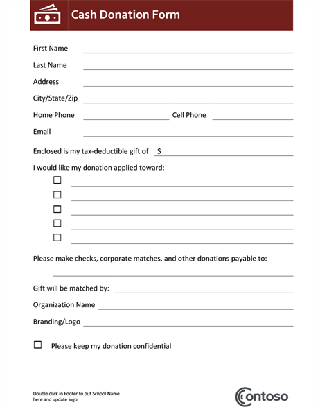checkbox: (51, 174, 62, 186), (52, 189, 64, 200), (51, 232, 63, 243), (51, 203, 62, 214), (51, 217, 62, 228), (33, 339, 43, 351)
textline: (51, 263, 295, 279), (80, 40, 295, 57), (69, 174, 294, 189), (80, 124, 295, 139), (67, 218, 297, 232), (80, 75, 296, 89), (81, 314, 297, 328), (80, 91, 295, 105), (69, 233, 297, 246), (68, 205, 295, 218), (80, 59, 296, 72), (96, 298, 295, 312), (111, 281, 295, 295), (69, 192, 295, 203), (164, 143, 297, 159), (80, 109, 171, 122), (211, 109, 295, 122)
